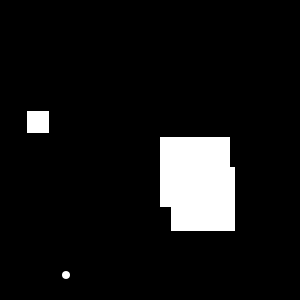circle: (160, 137, 230, 207), (171, 167, 235, 231), (27, 111, 49, 133)
rectangle: (62, 271, 70, 279)
